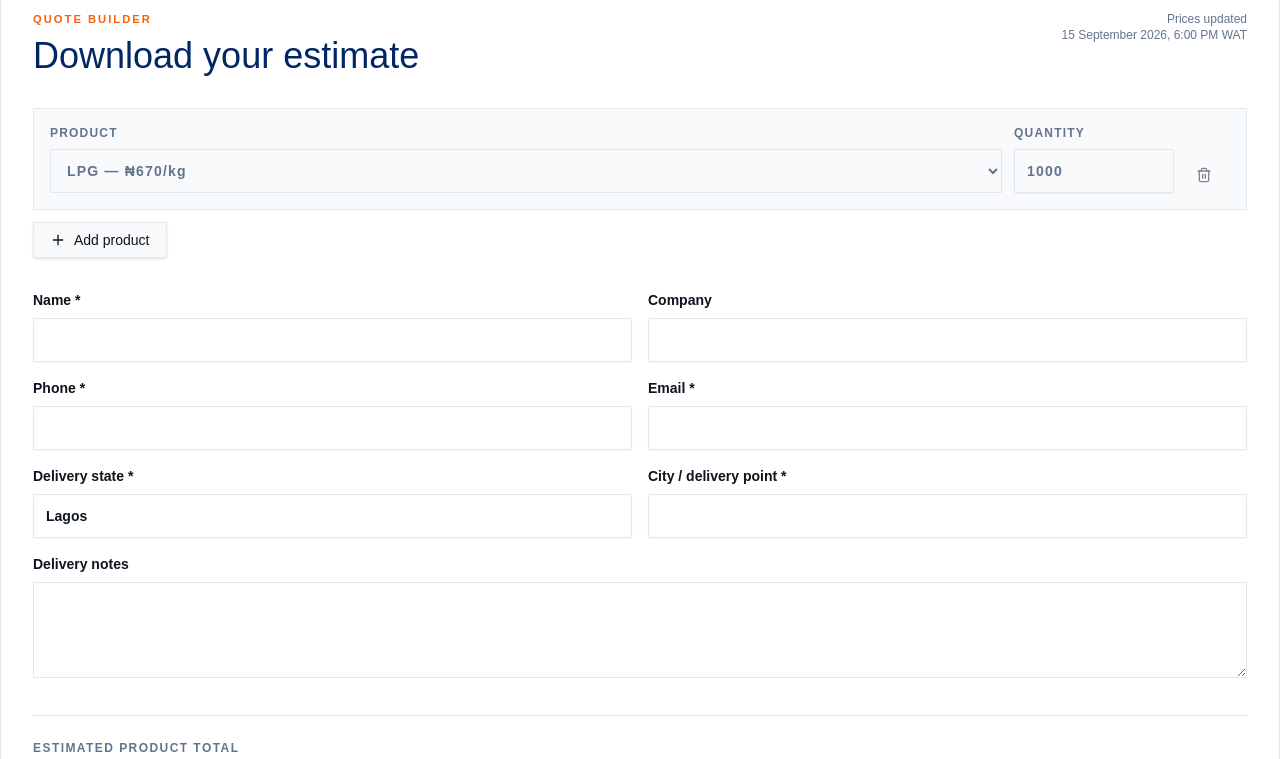
Test: quote builder › downloads a valid quote without promising email delivery
Type "Ada" into the field labelled "Name *".
click(332, 340); type("Ada")  # box [33, 318, 632, 362]
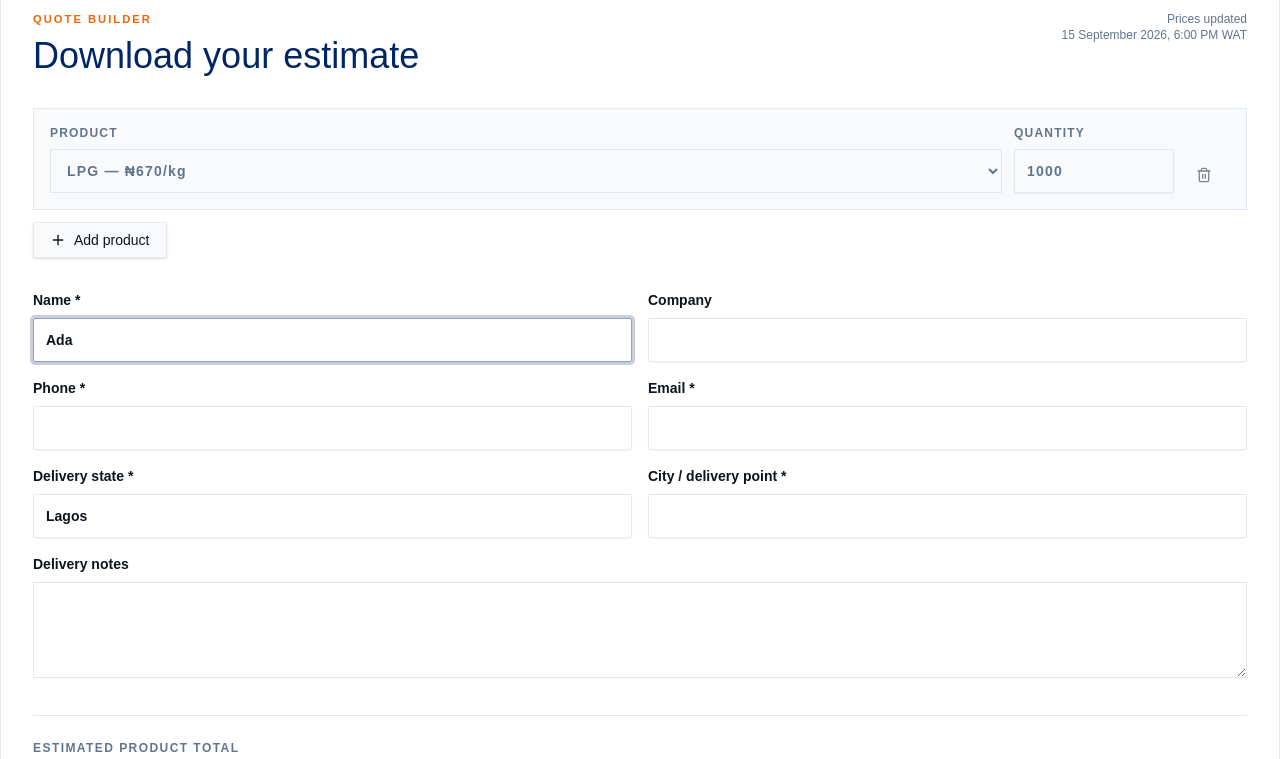
Type "+2349024876164" into the field labelled "Phone *".
click(332, 428); type("+2349024876164")  # box [33, 406, 632, 450]
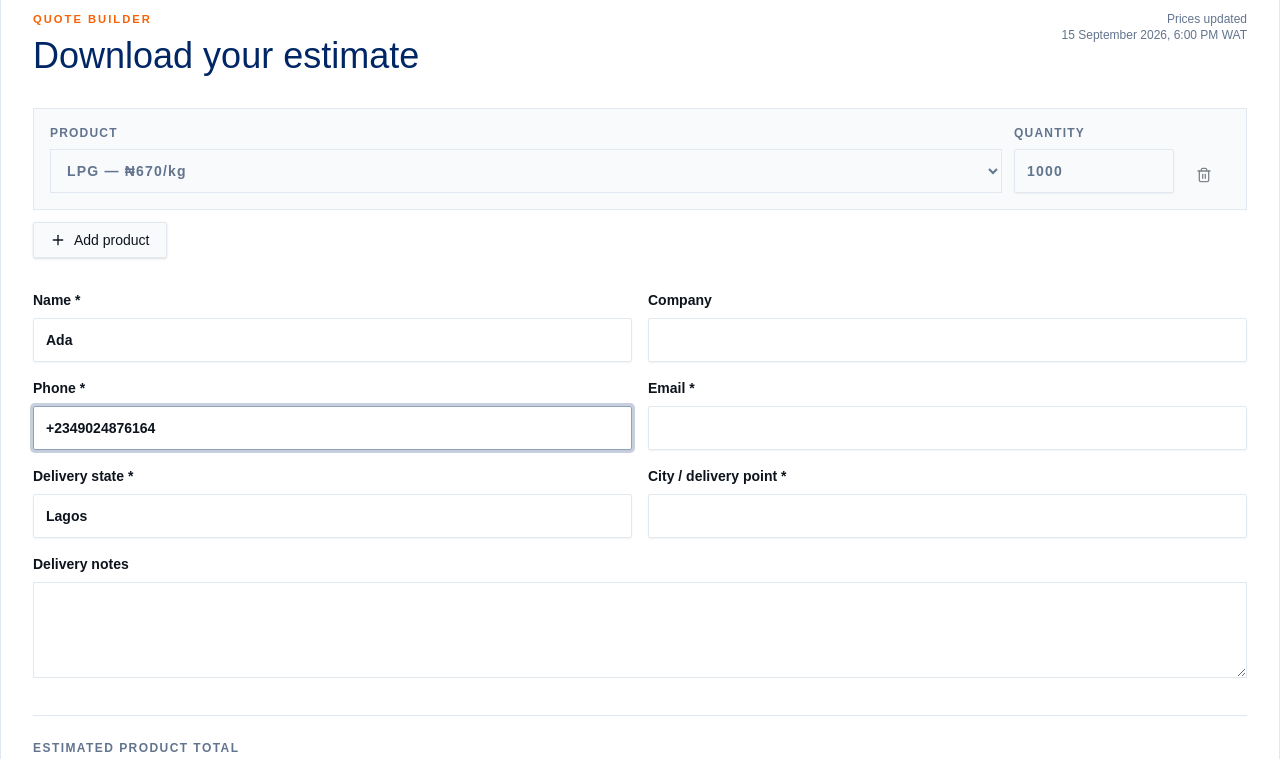
Type "ada@example.com" into the field labelled "Email *".
click(948, 428); type("ada@example.com")  # box [648, 406, 1247, 450]
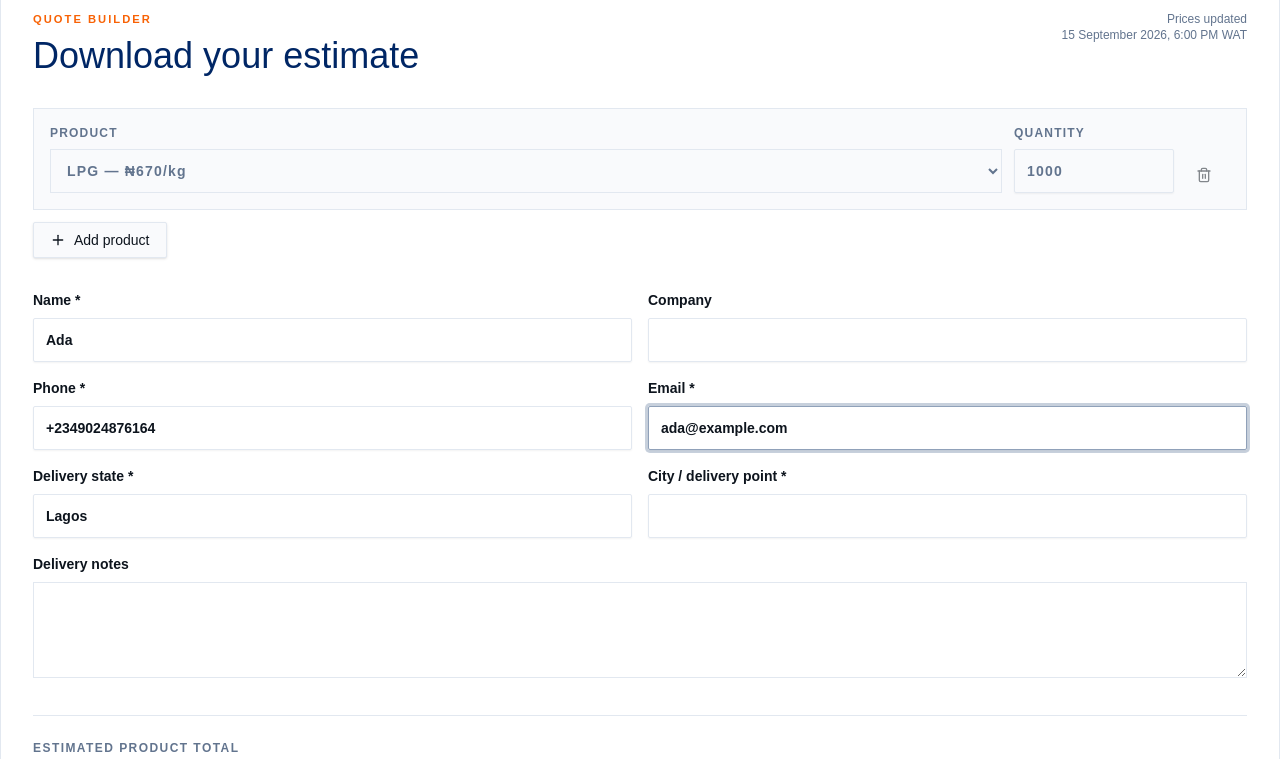
Type "Surulere" into the field labelled "City / delivery point *".
click(948, 516); type("Surulere")  # box [648, 494, 1247, 538]
(page scrolled)
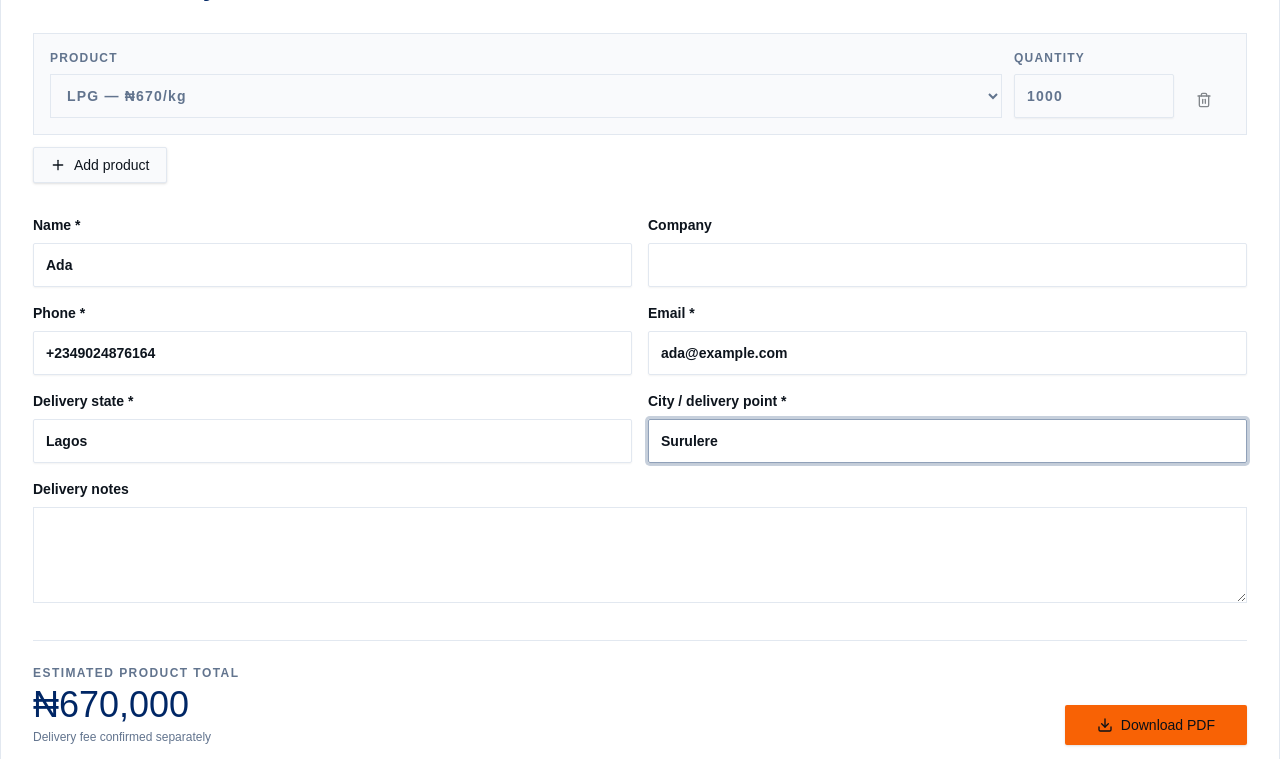
Click the button "Download PDF".
click(1156, 725)  # box [1065, 705, 1247, 745]
(page scrolled)
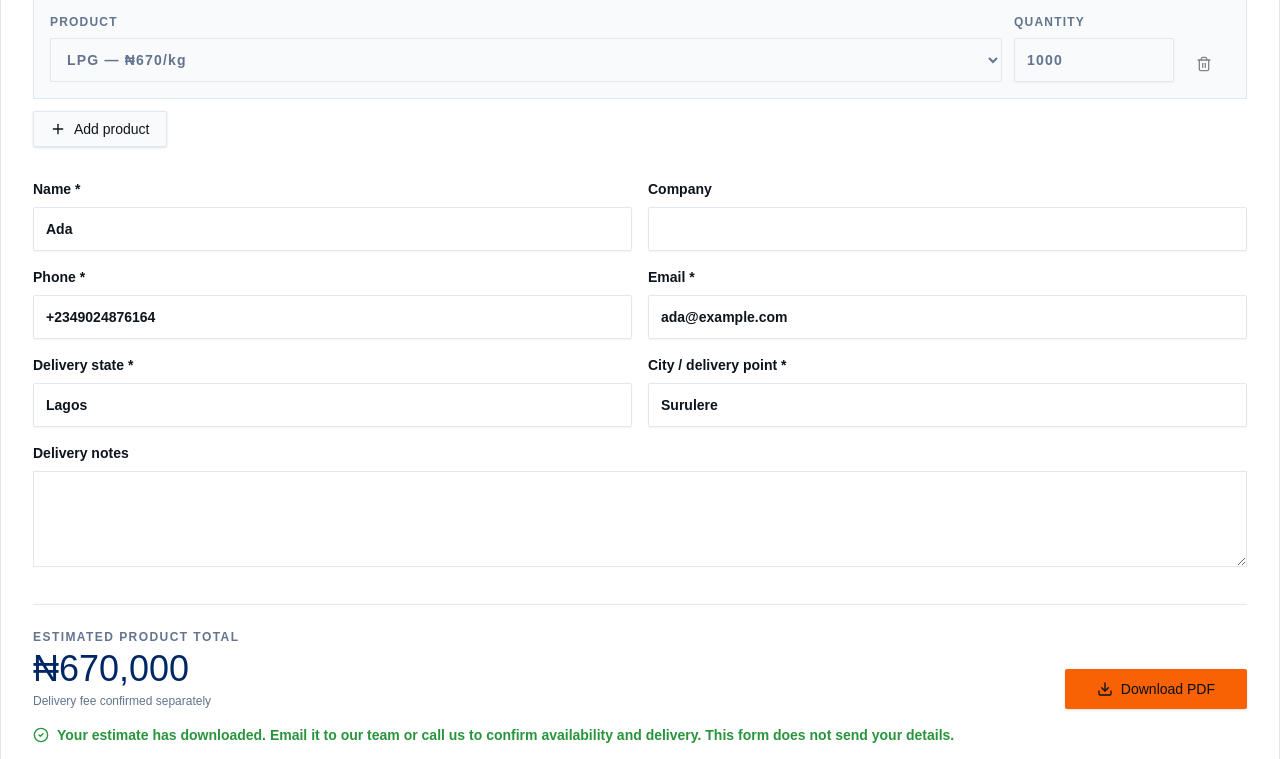
Expected: the message shows "does not send your details", [57, 727, 954, 743]
